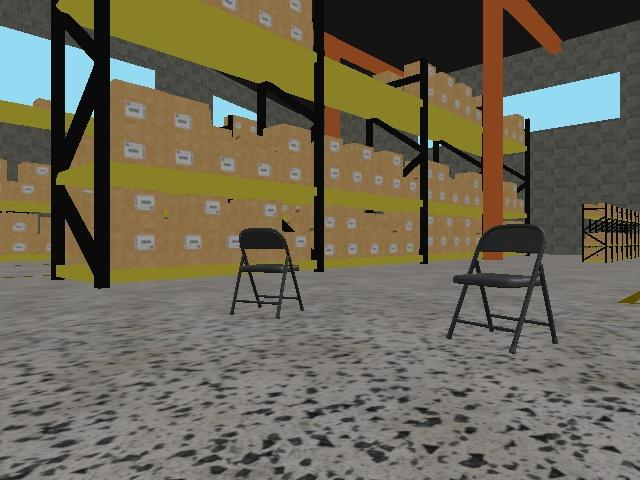chair: (447, 223, 559, 354), (231, 228, 304, 319)
